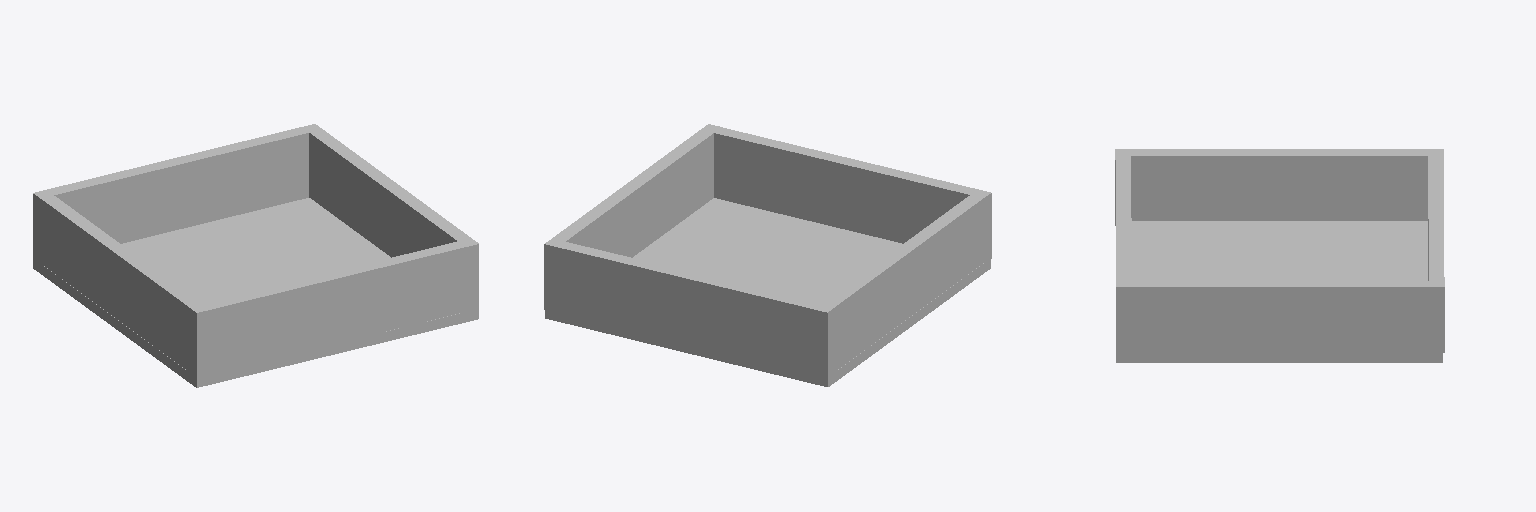
File: tray.obj
The picture shows the model from 3 angles: view 1: azimuth 30°, elevation 25°; view 2: azimuth 150°, elevation 25°; view 3: azimuth 270°, elevation 25°; orthographic projection.
Parts seen in each view (by area): view 1: side_1_Cube.006; view 2: side_1_Cube.006; view 3: side_1_Cube.006.
Boxes of the visible parts, x1,y1,x2,y2 form: side_1_Cube.006: [33, 124, 478, 387]; side_1_Cube.006: [544, 124, 991, 386]; side_1_Cube.006: [1115, 149, 1444, 362].
Size of the model in its own units: 5.65 by 1.44 by 5.69.